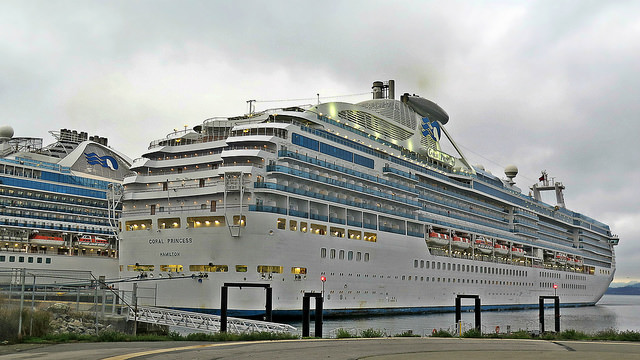cruise_ship: (114, 76, 621, 312)
